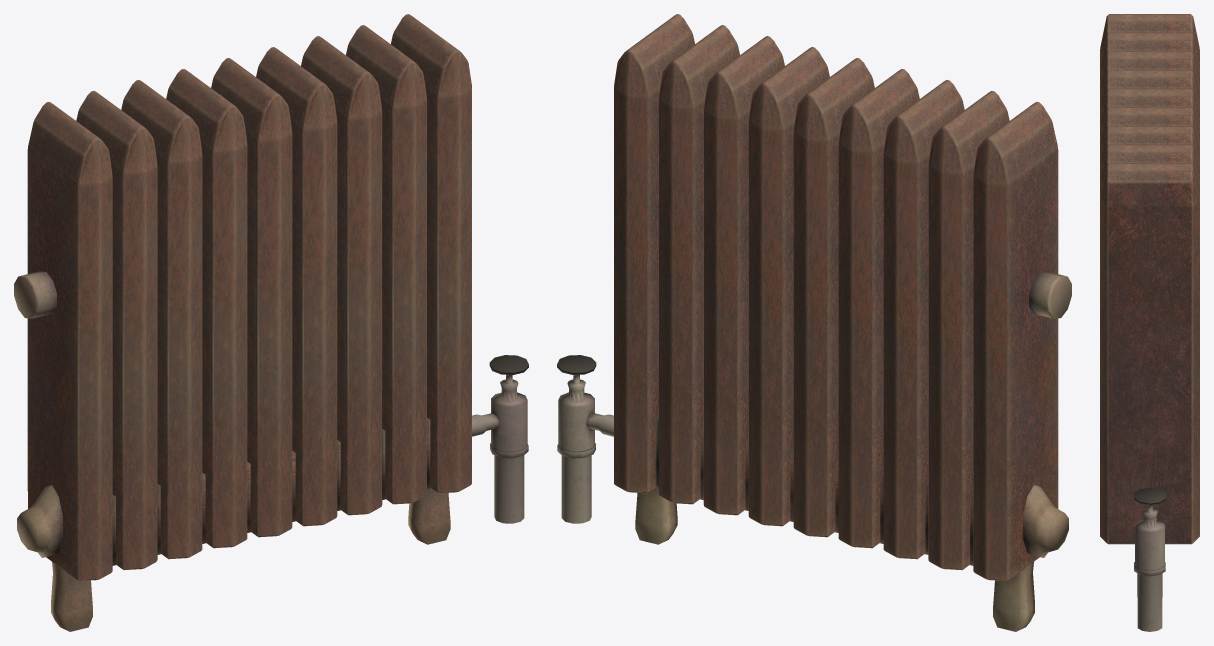
File: prop_radiator.glb
The picture shows the model from 3 angles, left to right: view 1: azimuth 30°, elevation 25°; view 2: azimuth 150°, elevation 25°; view 3: azimuth 270°, elevation 25°; orthographic projection. The views are drawn at different scales.
Parts seen in each view (by area): view 1: Object_2; view 2: Object_2; view 3: Object_2.
Part boxes in pixels (x1,y1,x2,y2): Object_2: (14, 14, 528, 631); Object_2: (557, 14, 1071, 631); Object_2: (1100, 14, 1199, 631).
Size of the model in its own units: 94.64 by 90.99 by 19.16.
1 material, 1 textured.
